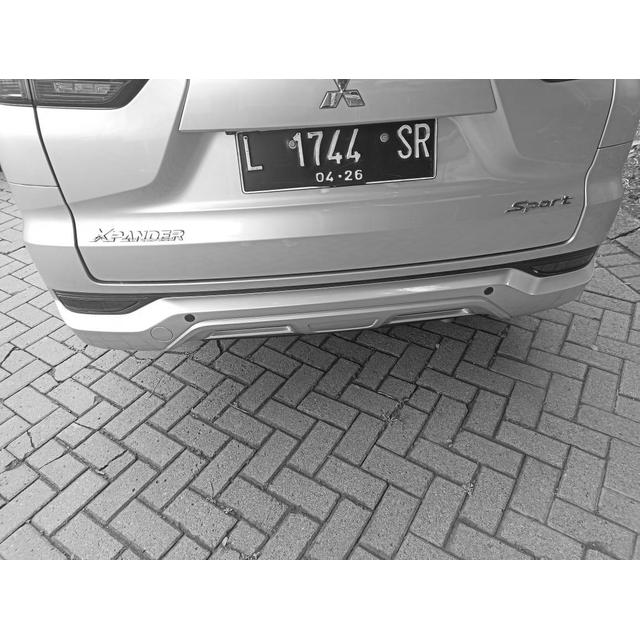license: (240, 121, 435, 186)
